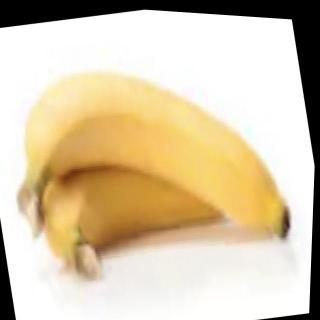banana: (8, 27, 308, 286), (32, 132, 246, 295)
